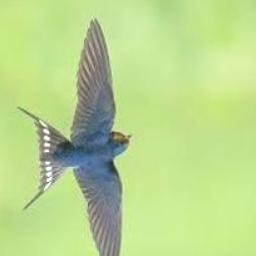Swallow: (16, 18, 133, 256)
